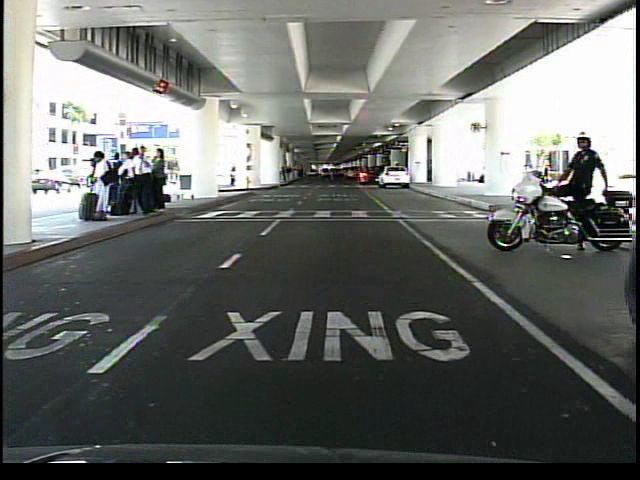person: (556, 129, 606, 259)
